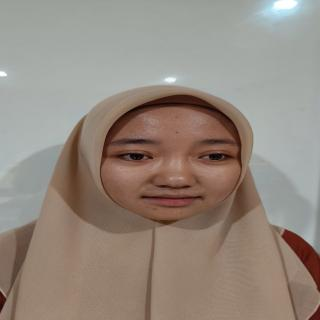Netral: (85, 87, 255, 232)
